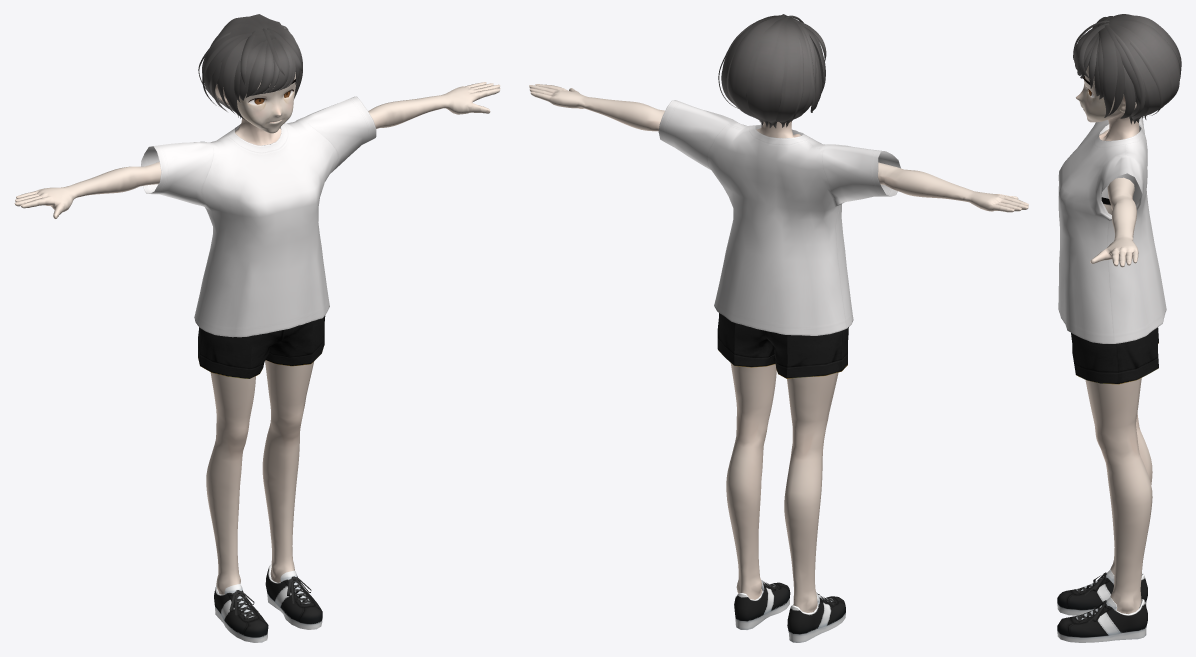
File: Old Female.fbx
3 renders of one model, left to right at view 1: azimuth 30°, elevation 25°; view 2: azimuth 150°, elevation 25°; view 3: azimuth 270°, elevation 25°, orthographic. The views are drawn at different scales.
Visible parts, largest first — view 1: Body; view 2: Body; view 3: Body.
Boxes of the visible parts, x1,y1,x2,y2 form: Body: (14,14,500,642); Body: (529,14,1028,642); Body: (1057,14,1181,642).
Size of the model in its own units: 1.39 by 1.62 by 0.302.
Materials: 13 (13 with a texture image).
